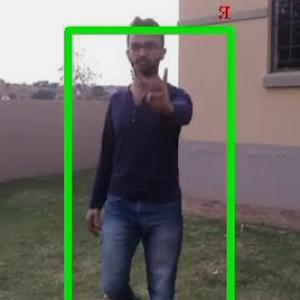takeoff-hand: (131, 59, 181, 118)
